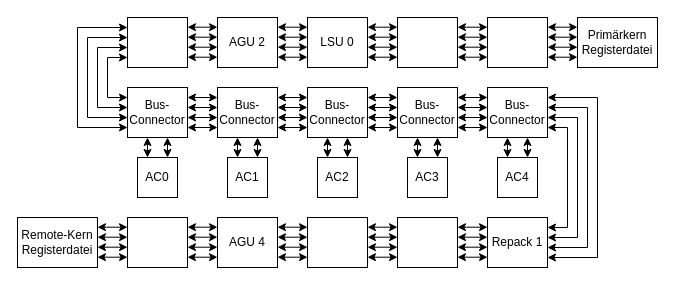
Some shapes in this 675 by 285 pixel diagram are drawn without their labels. Here are the shapes that lost their labels. From the top down, the centre of each, then its label:
At pixel 157 42: "Repack 0".
At pixel 427 42: "AGU 1".
At pixel 517 42: "AGU 0".
At pixel 157 242: "AGU 5".
At pixel 337 242: "LSU 1".
At pixel 427 242: "AGU 3".
